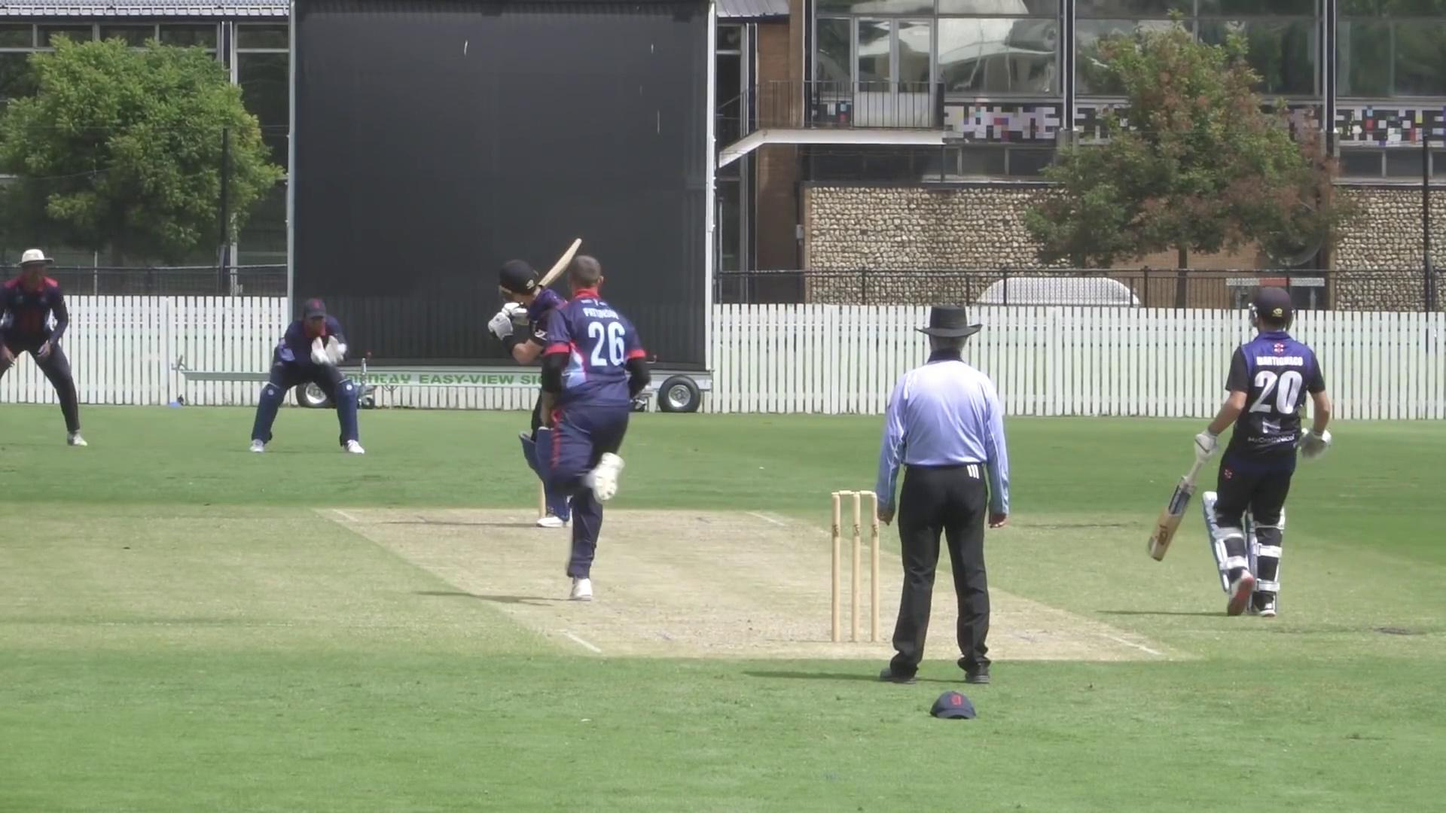ball: (331, 341, 353, 356)
